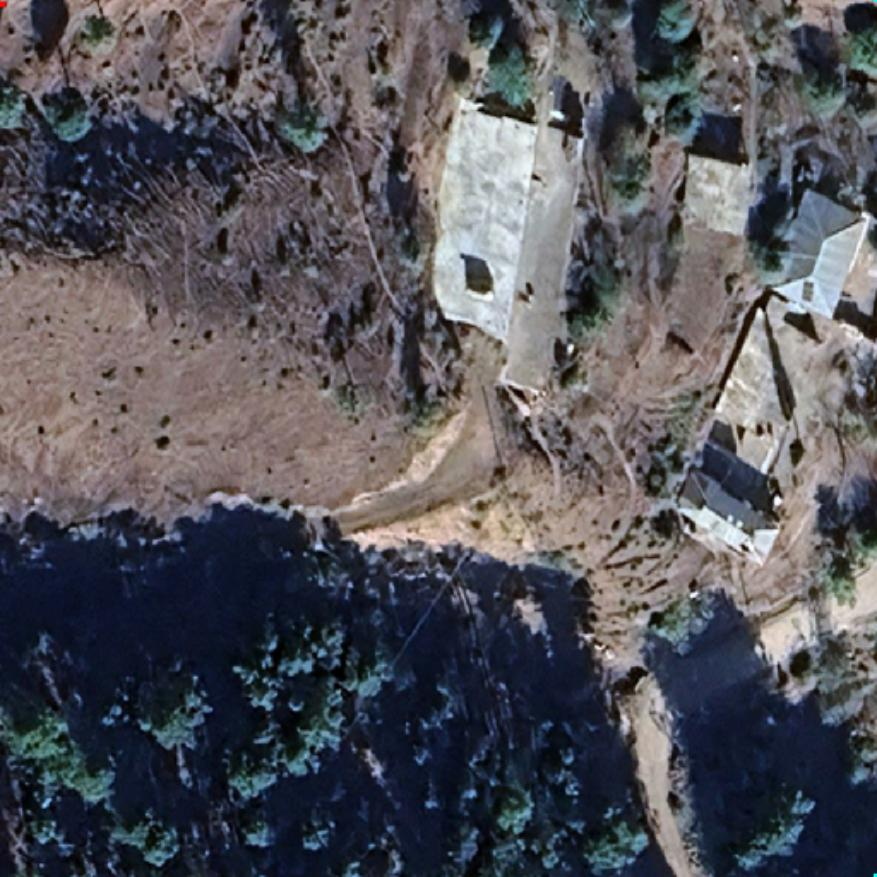Solarpanel: (799, 276, 817, 306)
